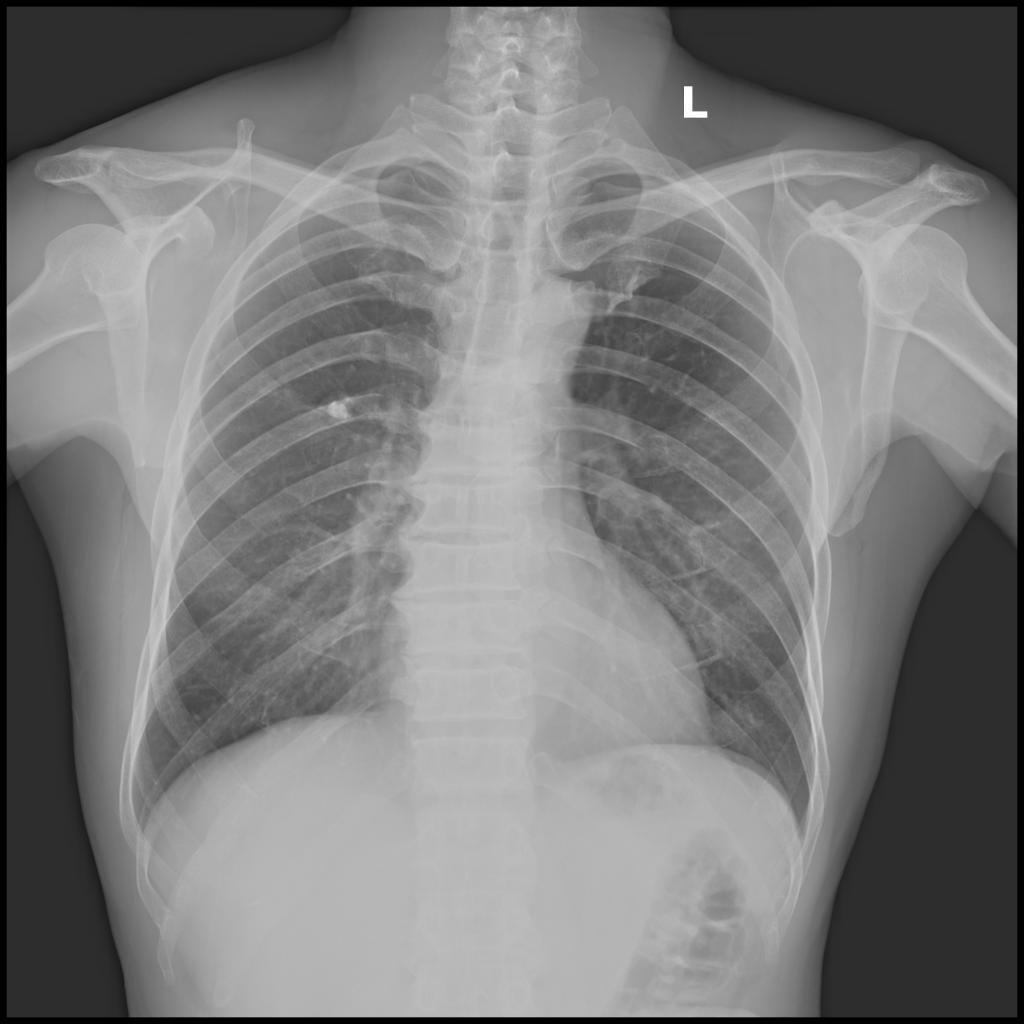Nodule: (325, 401, 350, 425)
